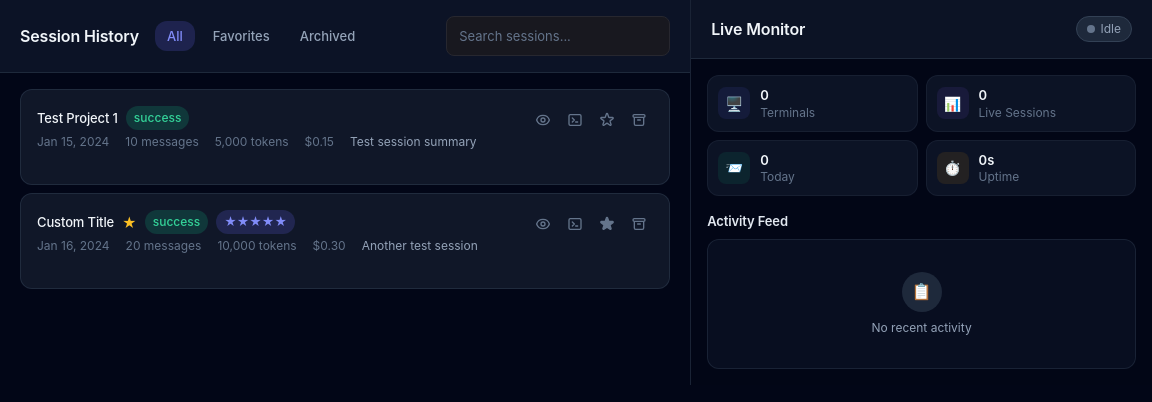
SessionsView › Search Functionality › filters sessions by search term
expect the heading "Test Project 1" is shown: met, box [37,109,118,127]
Type "Custom" into the field with placeholder "Search sessions..." at [558, 36], box [446,16,670,56]
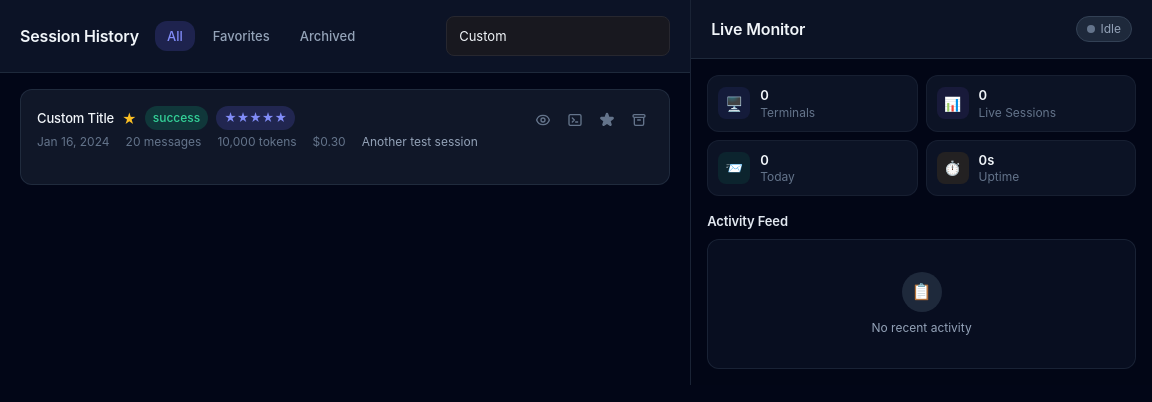
expect the heading "Custom Title" is shown: met, box [37,109,114,127]
expect the heading "Test Project 1" is gone: met
